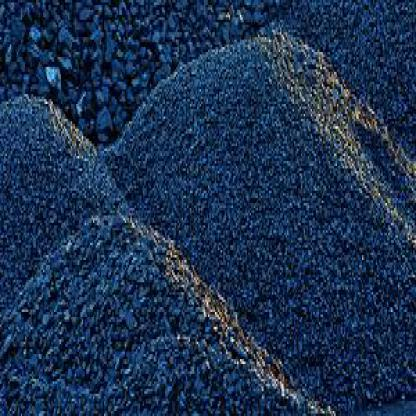Sedimentary_coal: (44, 62, 68, 89), (94, 102, 114, 131), (102, 32, 116, 62)
